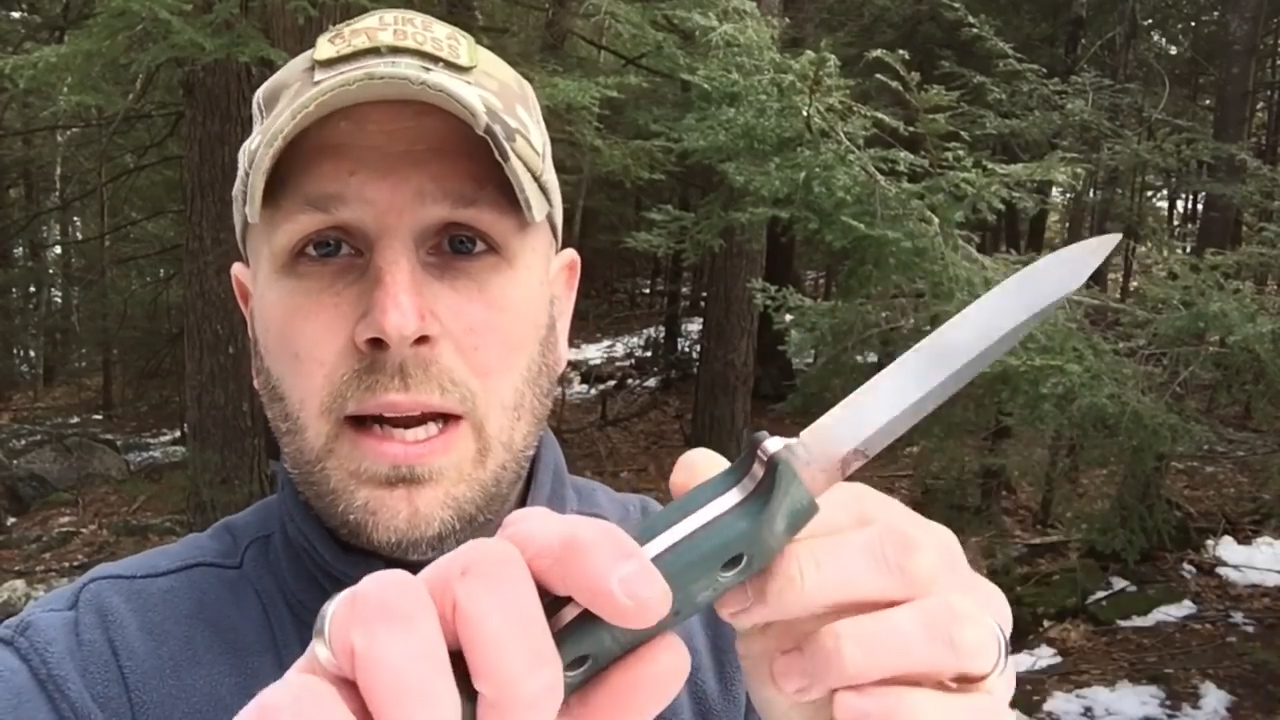knife: (581, 223, 1142, 645)
